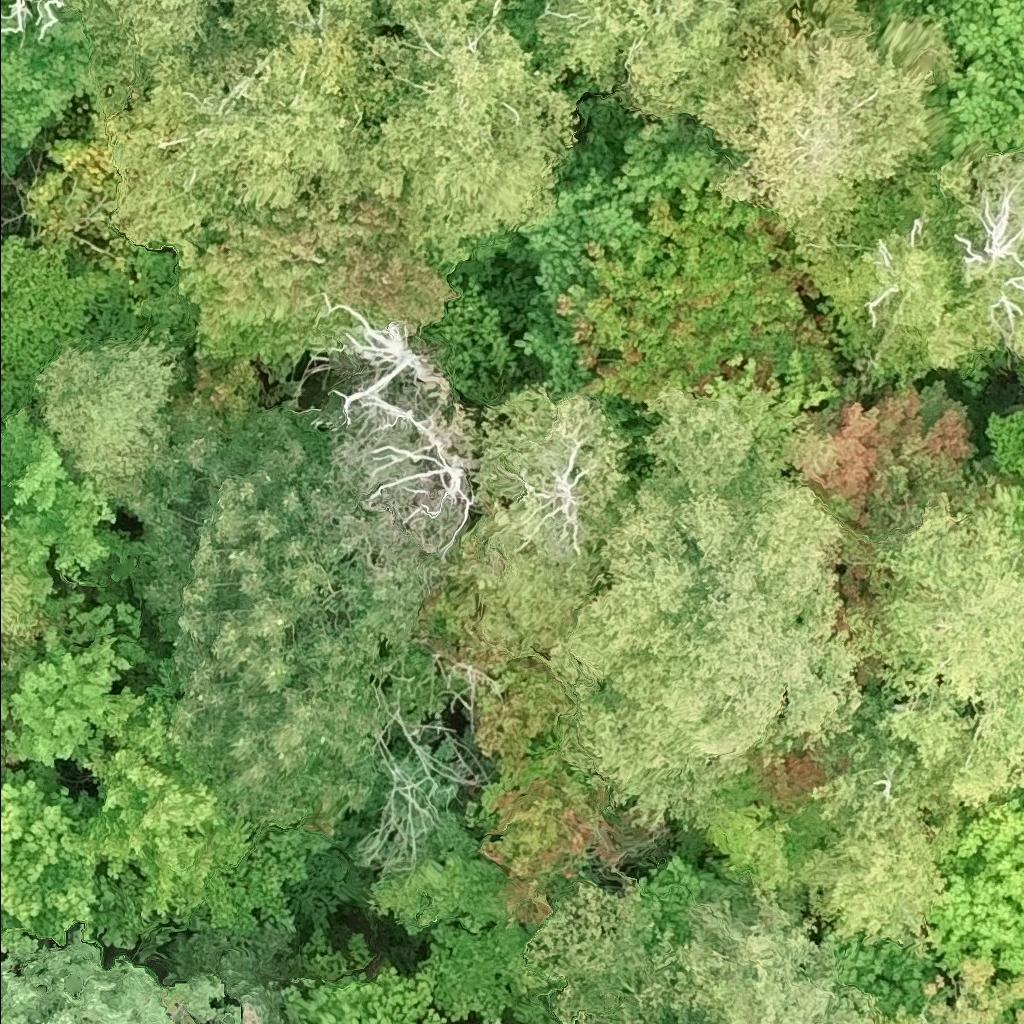crown: (541, 374, 873, 838), (145, 409, 448, 837), (365, 716, 667, 1023), (107, 0, 405, 254), (66, 688, 330, 939), (559, 186, 846, 409), (846, 470, 1023, 821), (701, 0, 950, 239), (370, 0, 578, 262), (175, 179, 459, 366), (523, 877, 883, 1023), (453, 388, 622, 657), (797, 153, 990, 387), (791, 727, 972, 950), (35, 333, 216, 535), (382, 570, 572, 755), (534, 0, 816, 122), (497, 170, 642, 394), (0, 600, 152, 789), (0, 394, 142, 589), (0, 777, 143, 961), (0, 919, 237, 1023), (936, 133, 1023, 353), (353, 725, 479, 876), (312, 313, 453, 446), (0, 0, 105, 171), (75, 0, 228, 116), (337, 418, 472, 547), (924, 0, 1023, 171), (928, 797, 1023, 973), (177, 927, 329, 1023), (0, 513, 93, 645), (611, 118, 736, 213), (493, 428, 588, 551), (282, 964, 453, 1023), (163, 353, 273, 444), (943, 953, 1023, 1023), (989, 409, 1023, 479), (872, 0, 938, 24), (0, 0, 31, 32), (37, 0, 64, 35), (855, 0, 878, 20), (877, 1012, 918, 1023), (0, 0, 13, 16), (0, 17, 17, 29), (1021, 995, 1023, 1008)
